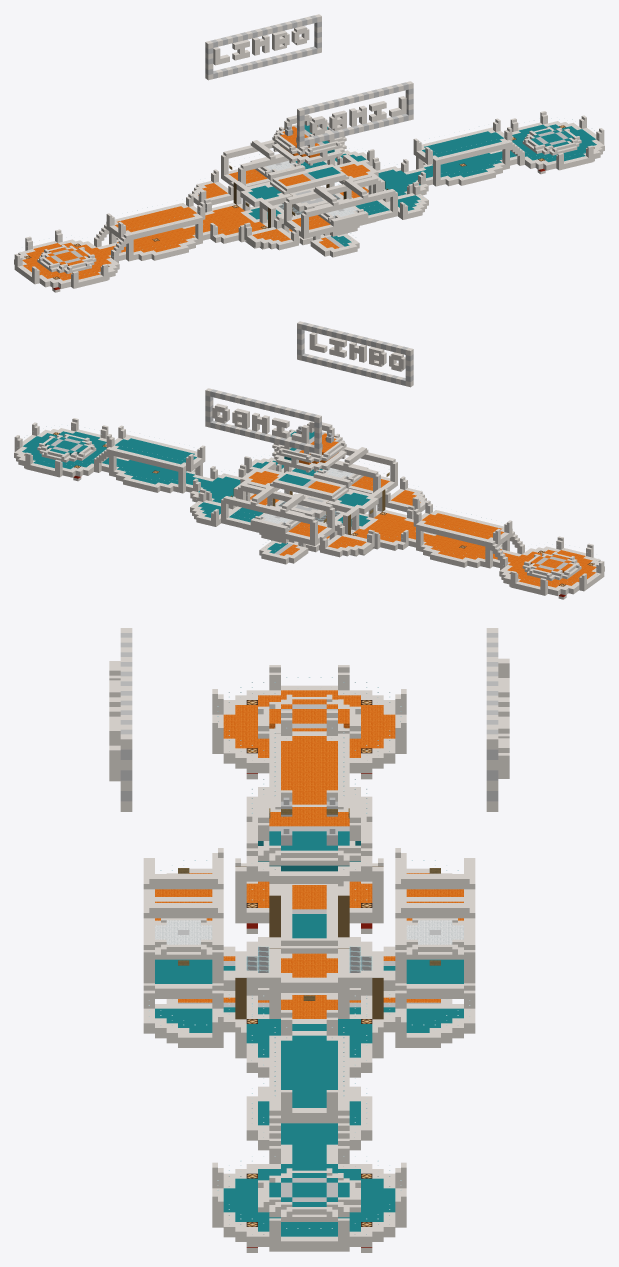
Rendered from minecraft.obj.
3 views of the same model, one above another, from view 1: azimuth 30°, elevation 25°; view 2: azimuth 150°, elevation 25°; view 3: azimuth 270°, elevation 25° (orthographic). The views are drawn at different scales.
Bounding box in the file's own units: 115 × 32 × 35.
